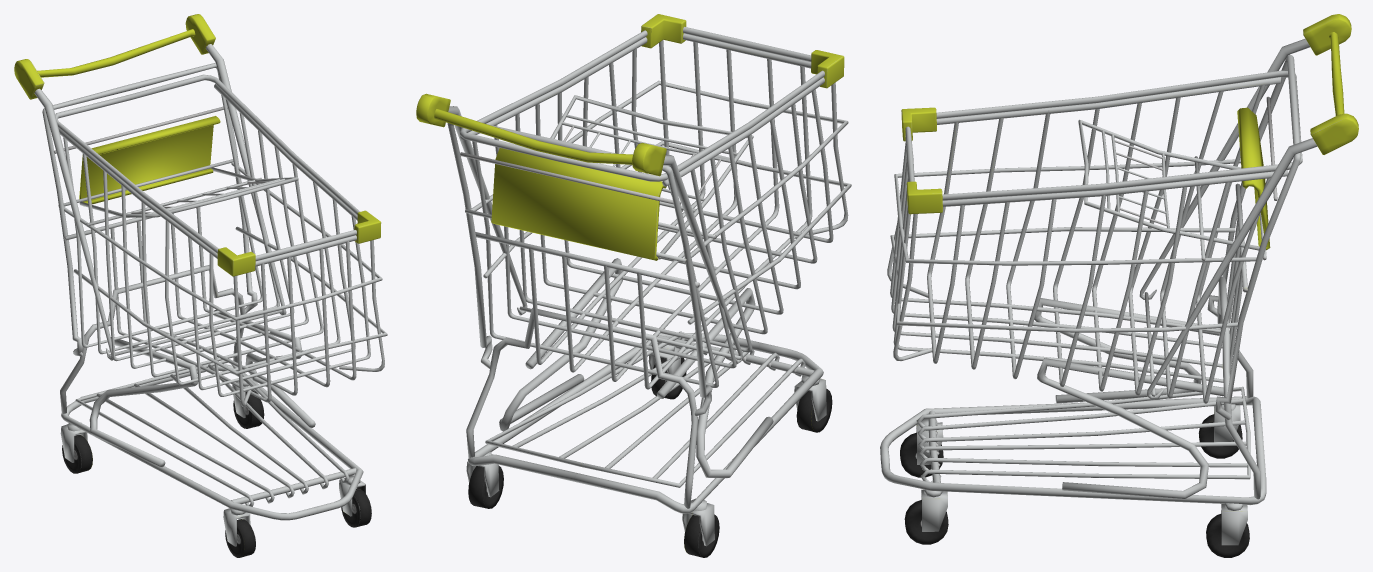
Rendered from shopping_cart.glb.
3 views of the same model, side by side, from view 1: azimuth 30°, elevation 25°; view 2: azimuth 150°, elevation 25°; view 3: azimuth 270°, elevation 25° (orthographic). The views are drawn at different scales.
Visible parts, largest first — view 1: Object_2; view 2: Object_2; view 3: Object_2.
Part boxes in pixels (x1=…): Object_2: x1=14, y1=14, x2=387, y2=557; Object_2: x1=416, y1=14, x2=851, y2=557; Object_2: x1=880, y1=14, x2=1358, y2=557.
Bounding box in the file's own units: 1.6 × 2.99 × 2.96.
Materials: 1 (1 with a texture image).
